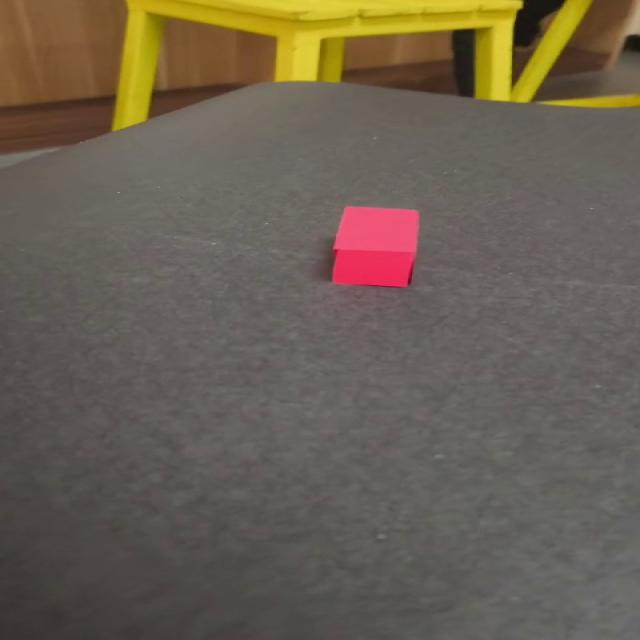red block: (329, 205, 420, 288)
